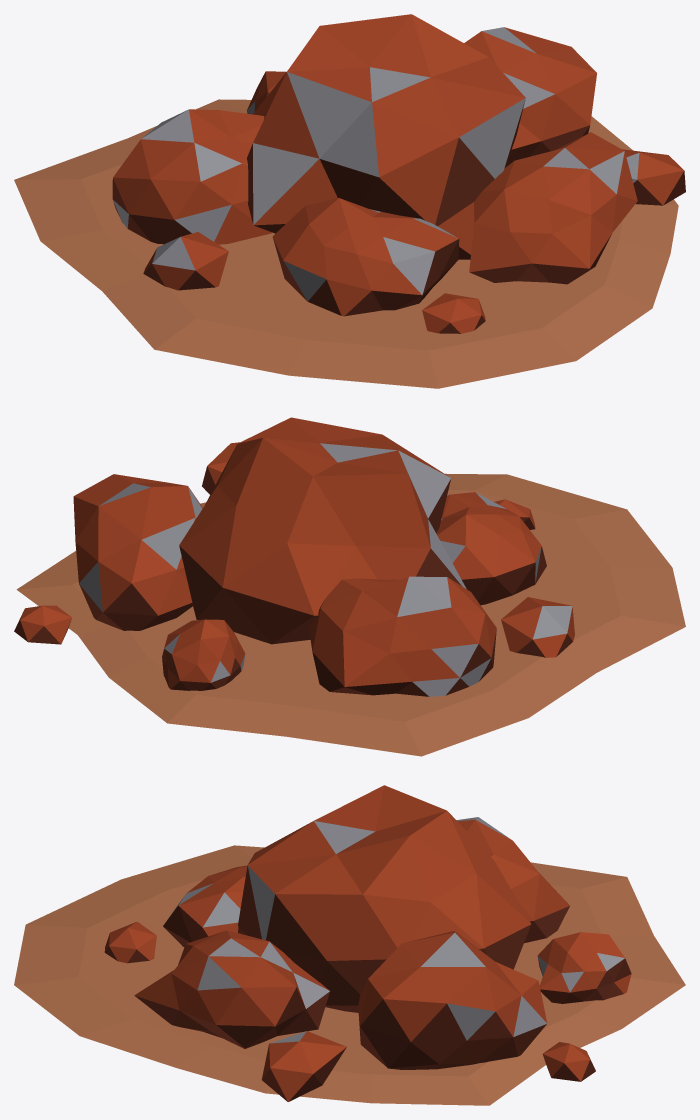
File: ore_iron.glb
3 views of the same model, one above another, from view 1: azimuth 30°, elevation 25°; view 2: azimuth 150°, elevation 25°; view 3: azimuth 270°, elevation 25° (orthographic). The views are drawn at different scales.
Parts seen in each view (by area): view 1: ore_iron; view 2: ore_iron; view 3: ore_iron.
Boxes of the visible parts, x1,y1,x2,y2 form: ore_iron: [14, 14, 685, 388]; ore_iron: [14, 417, 685, 756]; ore_iron: [14, 785, 685, 1105].
Size of the model in its own units: 2.93 by 0.8964 by 3.2.
